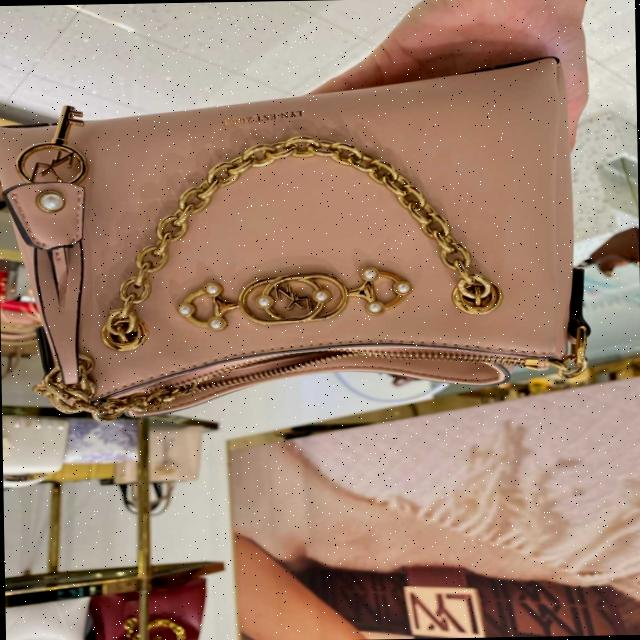handbag: (0, 51, 579, 435)
